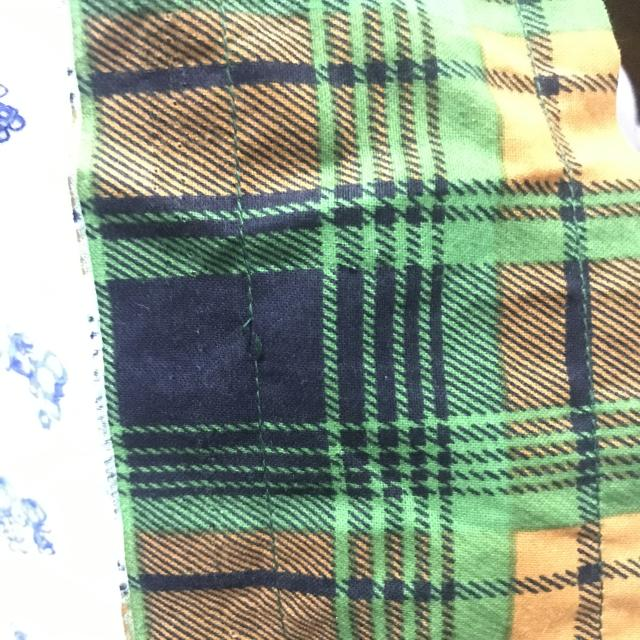broken: (226, 310, 280, 377)
good: (566, 285, 602, 390), (227, 100, 250, 196)
